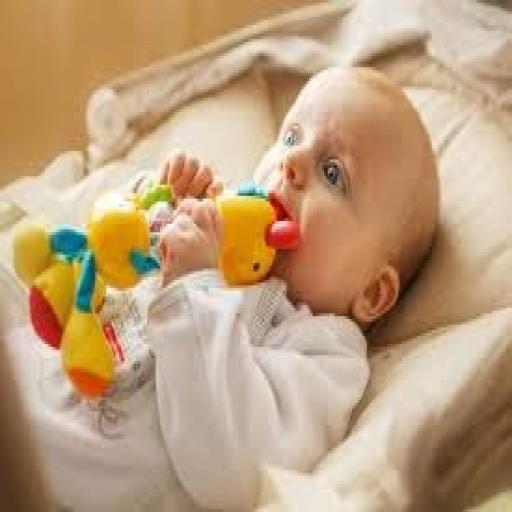baby: (17, 68, 439, 511)
